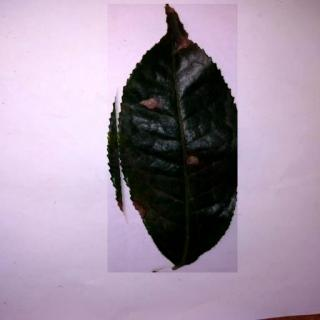Anthracnose: (109, 5, 239, 274)
